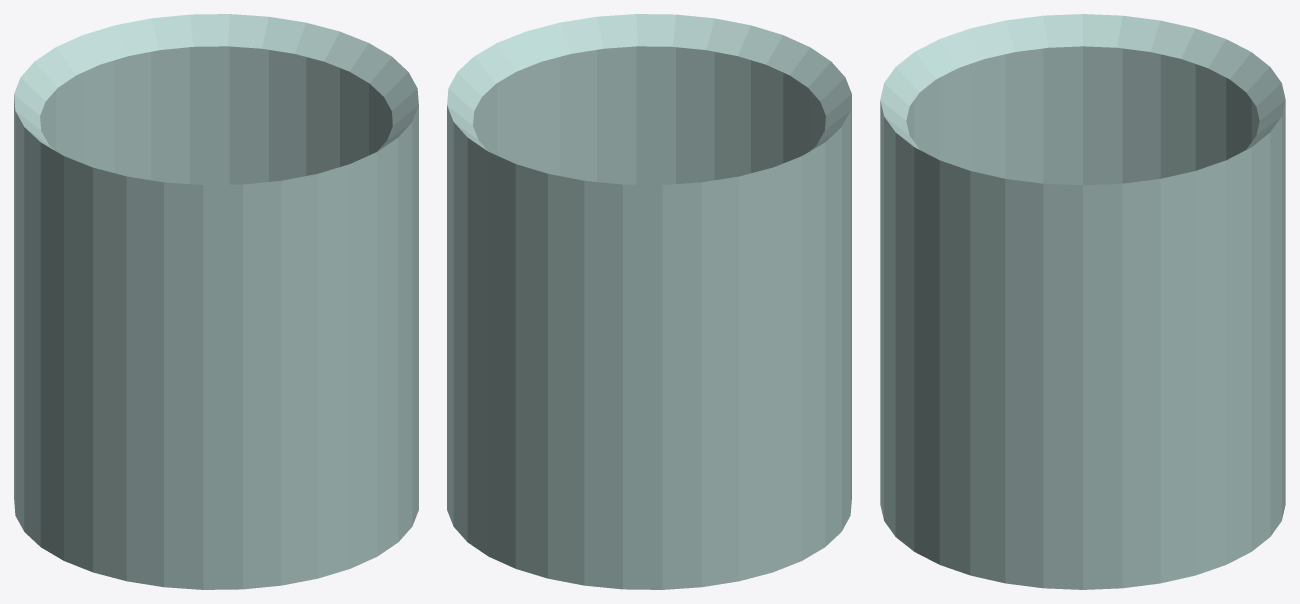
The model's file is Glass.fbx.
3 views of the same model, side by side, from view 1: azimuth 30°, elevation 25°; view 2: azimuth 150°, elevation 25°; view 3: azimuth 270°, elevation 25° (orthographic).
Parts seen in each view (by area): view 1: Cylinder.001; view 2: Cylinder.001; view 3: Cylinder.001.
Boxes of the visible parts, box(x1,y1,x2,y2) form: Cylinder.001: box(14, 14, 418, 589); Cylinder.001: box(447, 14, 851, 589); Cylinder.001: box(880, 14, 1285, 589).
Bounding box in the file's own units: 98.96 × 109 × 98.96.
